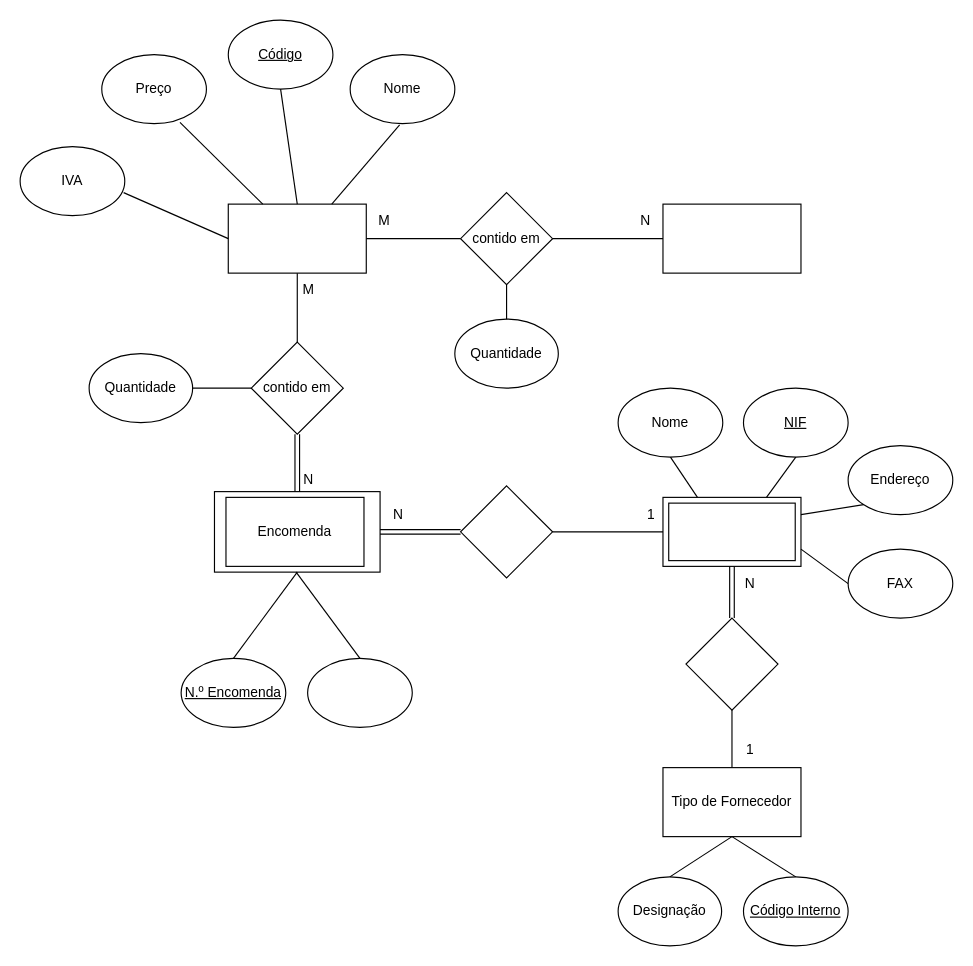
Some shapes in this 973 by 966 pixel diagram are drawn without their labels. Here are the shapes that lost their labels. From the top down, the centre of each, then its label:
At [296,238]: "Produto".
At [731,238]: "Armazém".
At [506,531]: "associada a".
At [731,531]: "Fornecedor".
At [731,663]: "tem".
At [359,692]: "Data".
